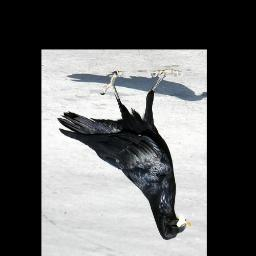Crow: (57, 67, 191, 241)
